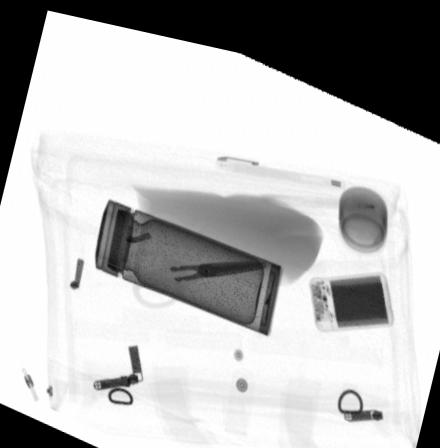Powerbank: (308, 253, 393, 316)
Scissors: (127, 237, 274, 304)
